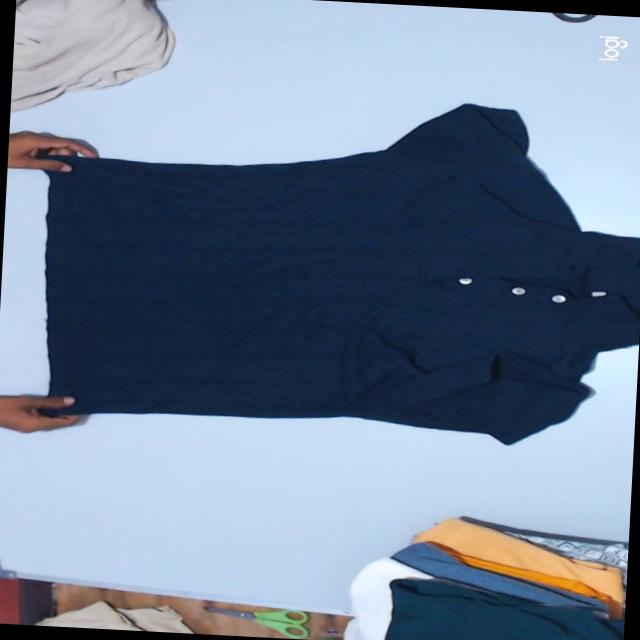new-garment: (47, 104, 640, 442)
